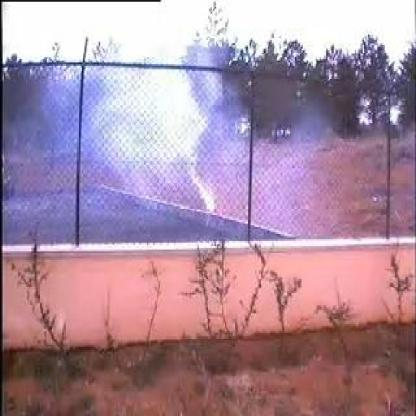-: (51, 64, 256, 236)
